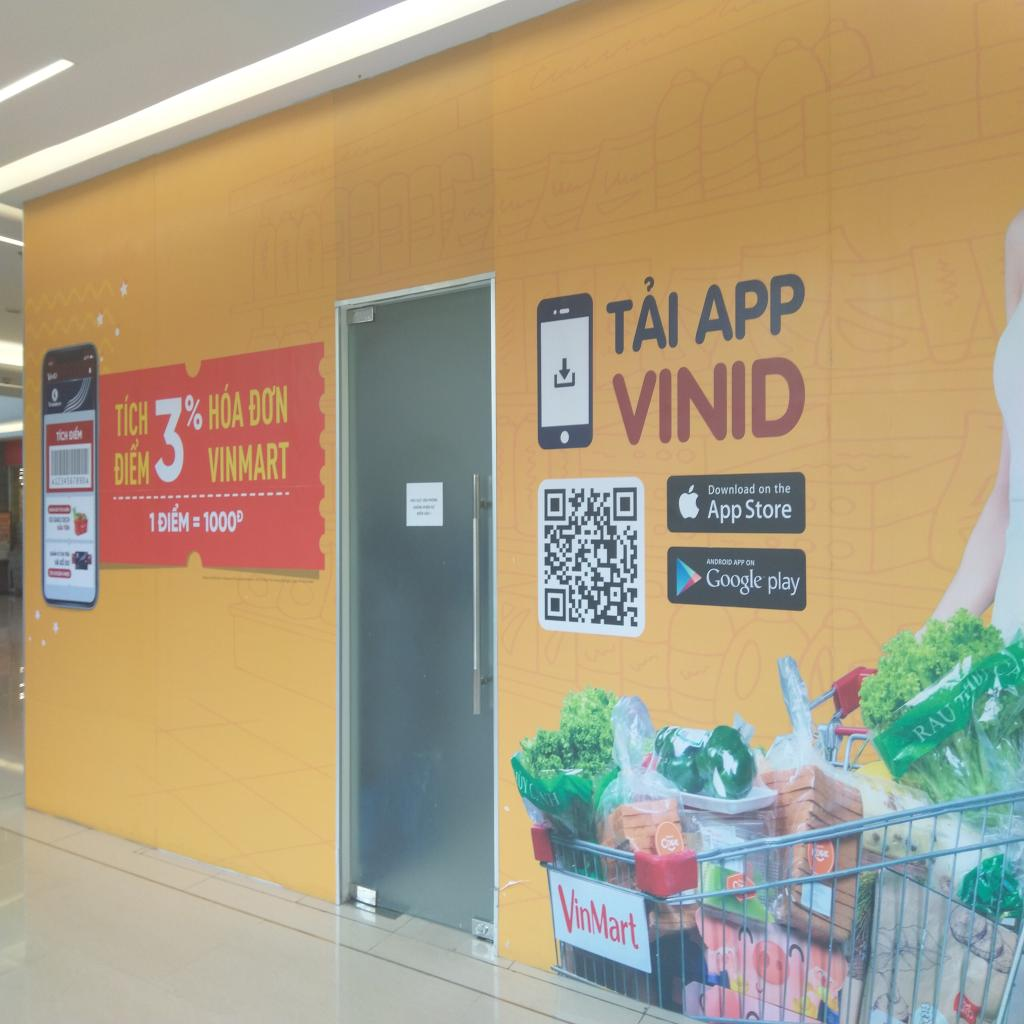text: (606, 352, 807, 447), (693, 270, 805, 344), (552, 883, 640, 960), (606, 271, 680, 354), (205, 442, 290, 484), (153, 396, 184, 484), (908, 698, 960, 750), (112, 436, 151, 487), (246, 382, 288, 427), (705, 568, 763, 598), (113, 392, 150, 439), (208, 382, 244, 430), (744, 496, 794, 519), (156, 503, 190, 533), (706, 498, 742, 524), (766, 570, 801, 596), (182, 392, 204, 432), (202, 511, 237, 533), (706, 481, 756, 496), (705, 555, 733, 568), (517, 768, 529, 797), (55, 475, 86, 486), (660, 836, 680, 850), (547, 790, 561, 810), (773, 480, 792, 494), (68, 425, 82, 441), (758, 482, 772, 496), (54, 428, 68, 441), (148, 512, 155, 534), (236, 509, 244, 524), (192, 516, 200, 529), (733, 558, 745, 566), (746, 558, 756, 566), (428, 497, 438, 503), (413, 504, 423, 510), (731, 881, 738, 889), (815, 844, 825, 849), (423, 504, 431, 510), (416, 510, 424, 515), (51, 476, 55, 486), (410, 497, 416, 503), (416, 497, 422, 503), (422, 496, 428, 502), (424, 511, 430, 516), (86, 476, 89, 485), (431, 505, 435, 510)
